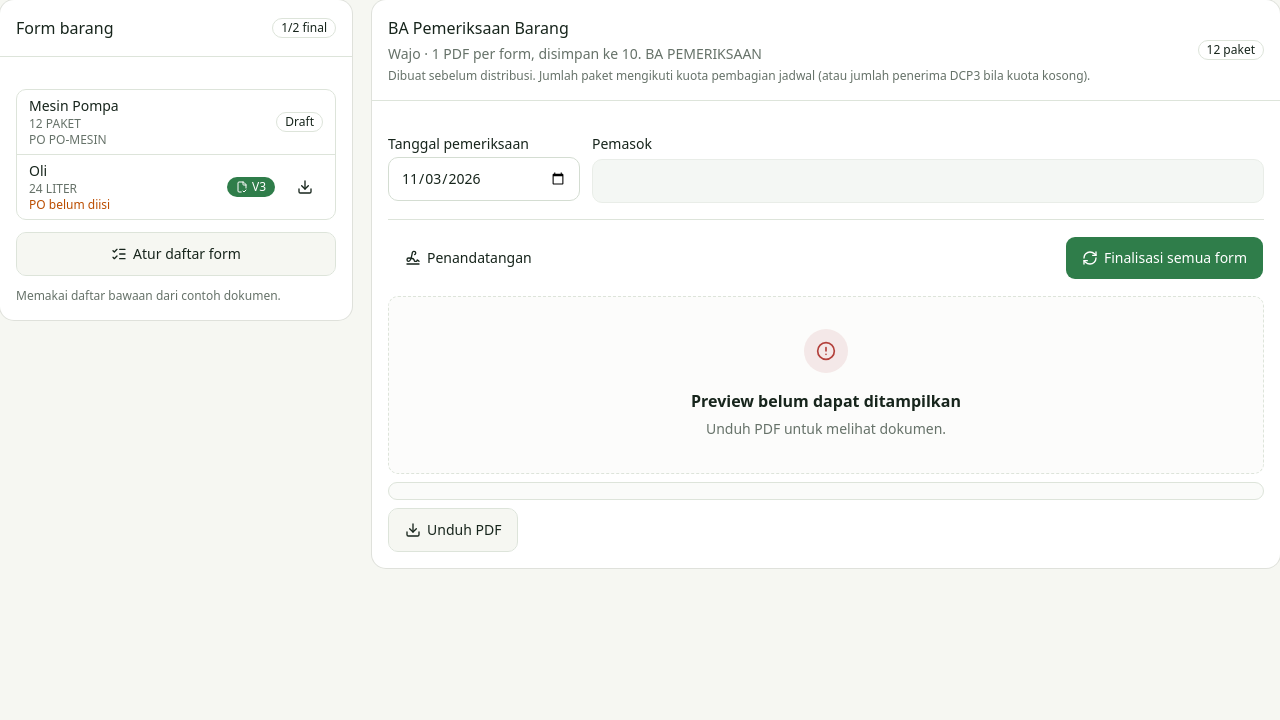
Test: opens a form without default supporting documents in the editor without crashing
The image size is (1280, 720).
Click the button "Atur daftar form" at (176, 254), box [16,232,336,276]
(page scrolled)
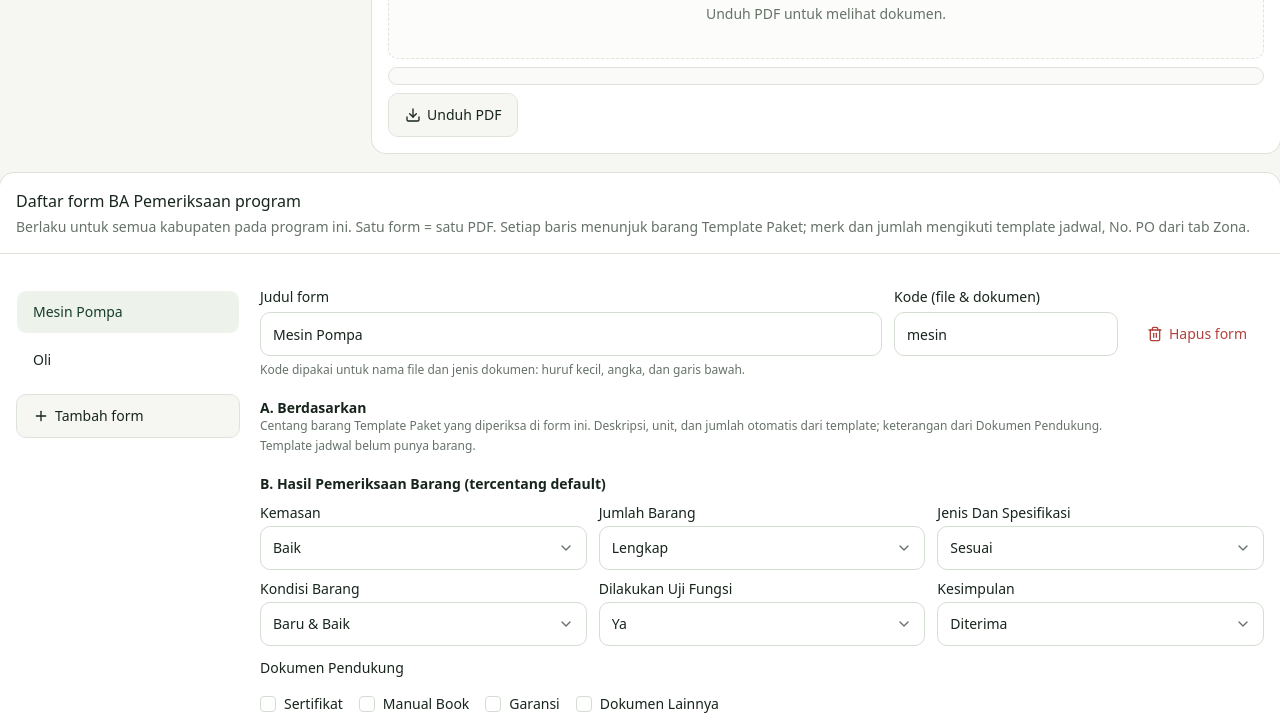
Click the button "Oli" at (128, 360), box [16,338,240,382]
(page scrolled)
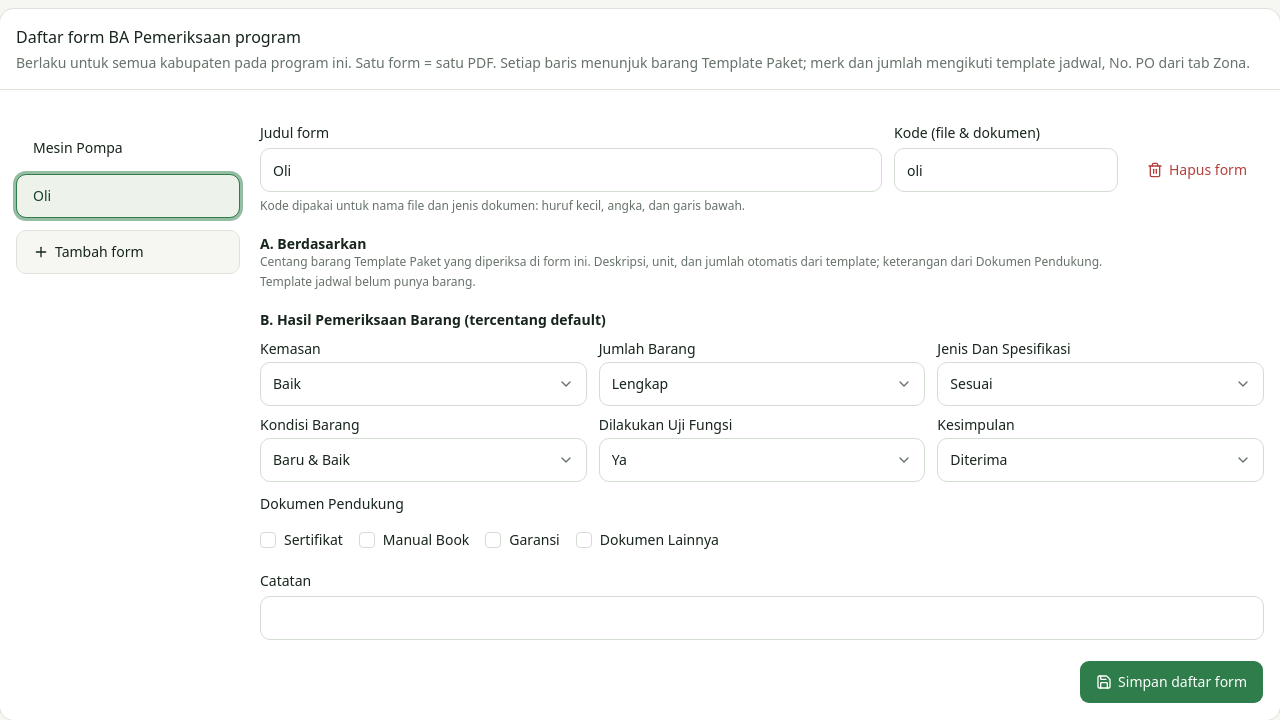
Result: the element "Dokumen Pendukung" is shown at [260,494,719,549]
Result: the field labelled "Judul form" holds "Oli" at [260,148,882,192]
